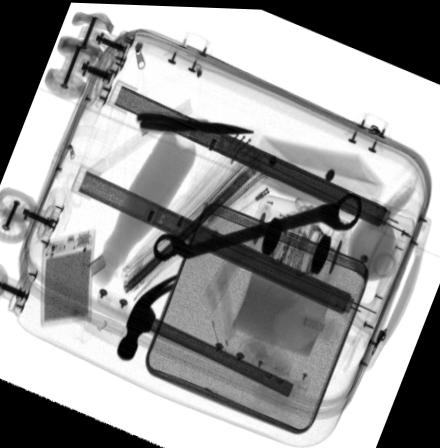Hammer: (116, 270, 294, 396)
Pliers: (138, 110, 255, 134)
Powerbank: (39, 227, 95, 327)
Wrench: (152, 191, 362, 260)
